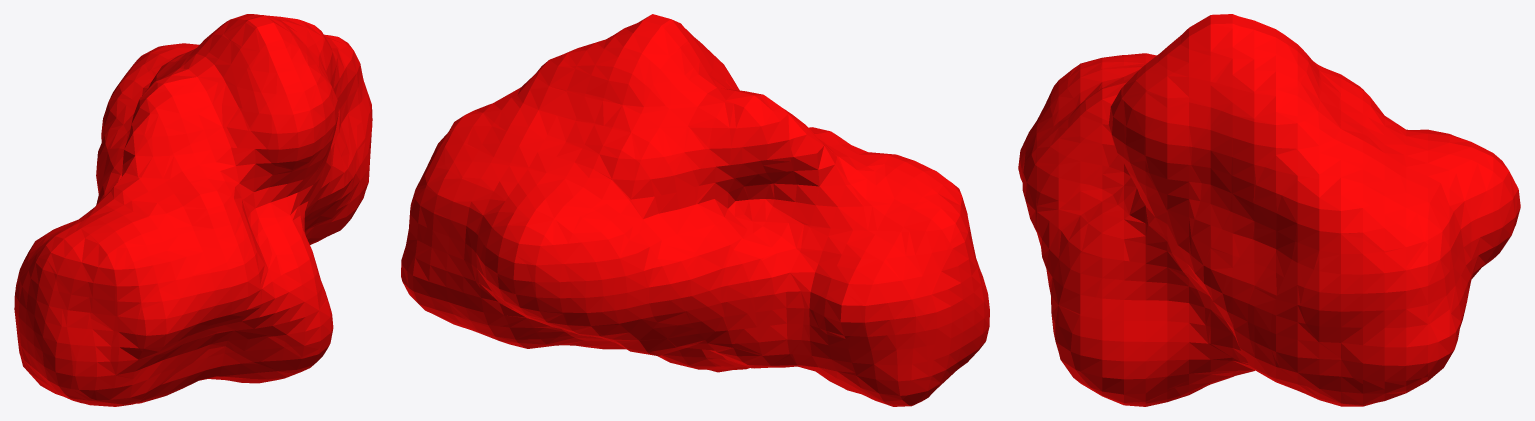
File: yjdC_coarse.dae
3 renders of one model, left to right at view 1: azimuth 30°, elevation 25°; view 2: azimuth 150°, elevation 25°; view 3: azimuth 270°, elevation 25°, orthographic. The views are drawn at different scales.
Parts seen in each view (by area): view 1: yjdC; view 2: yjdC; view 3: yjdC.
Boxes of the visible parts, x1=… form: yjdC: x1=14, y1=14, x2=372, y2=406; yjdC: x1=401, y1=14, x2=989, y2=406; yjdC: x1=1018, y1=14, x2=1520, y2=406.
Bounding box in the file's own units: 57.67 × 43.65 × 49.77.
